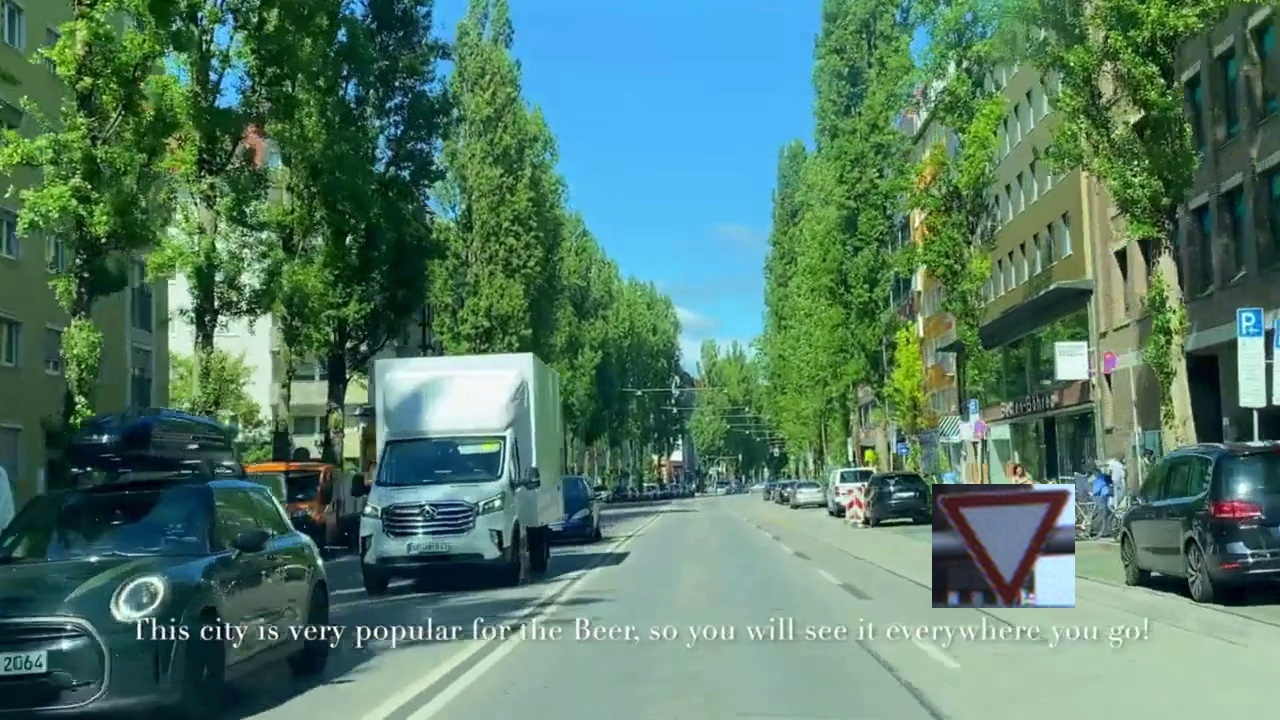Yield: (932, 484, 1075, 608)
